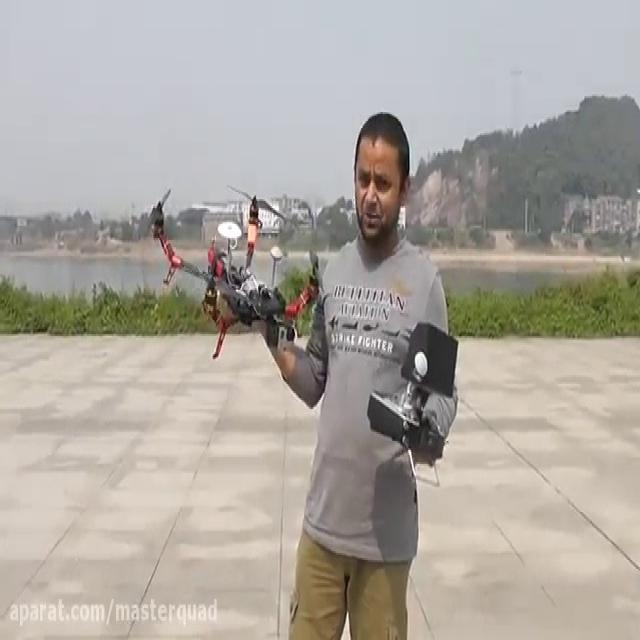drone: (137, 181, 325, 359)
